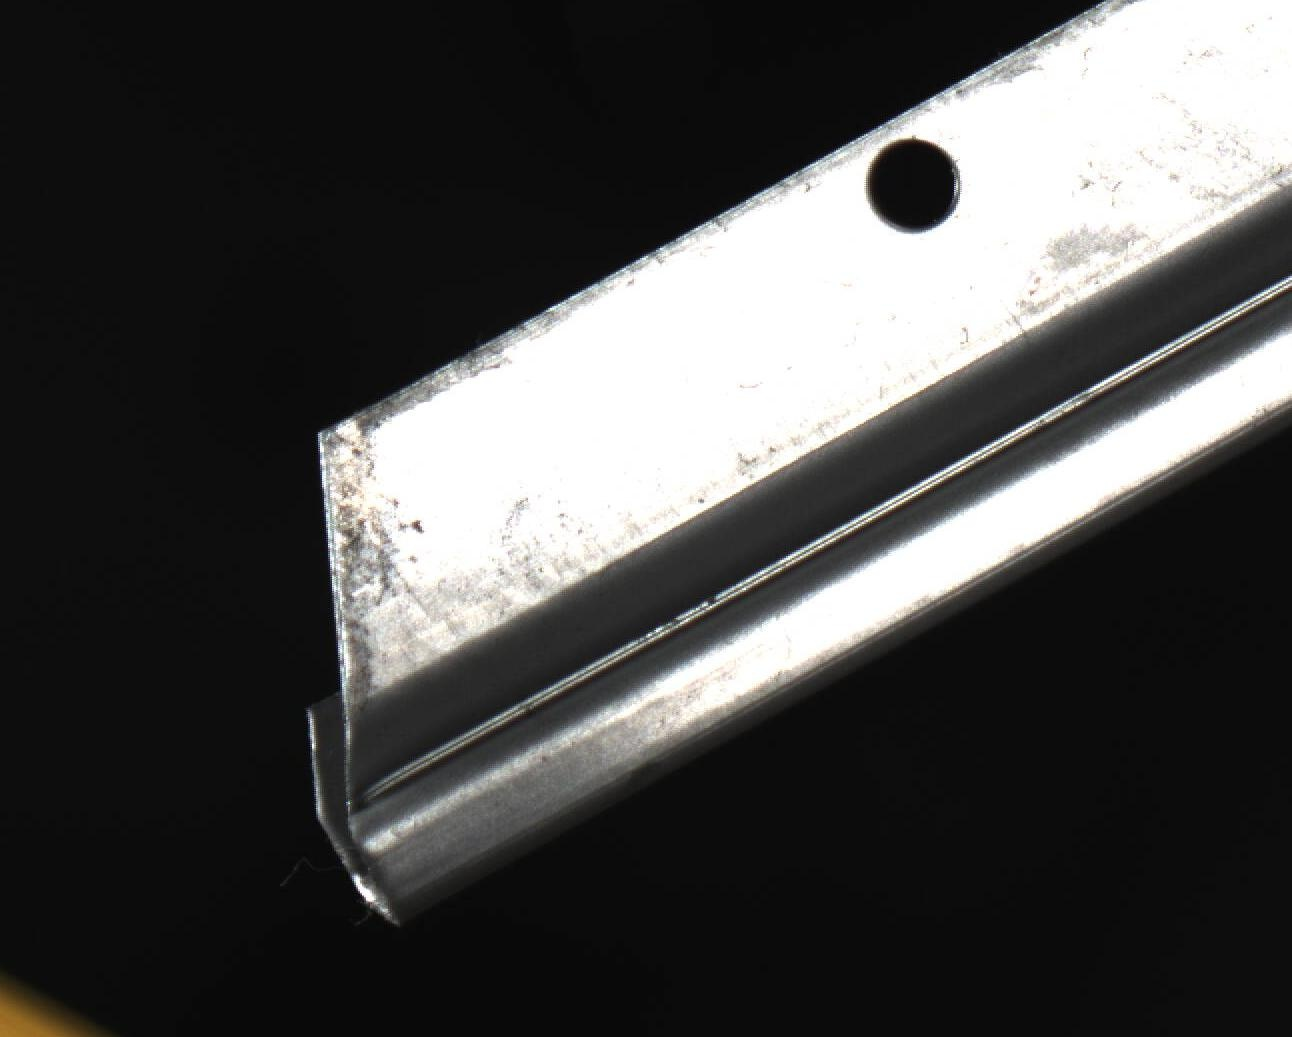cut: (248, 335, 703, 941)
holes: (865, 137, 964, 234)
